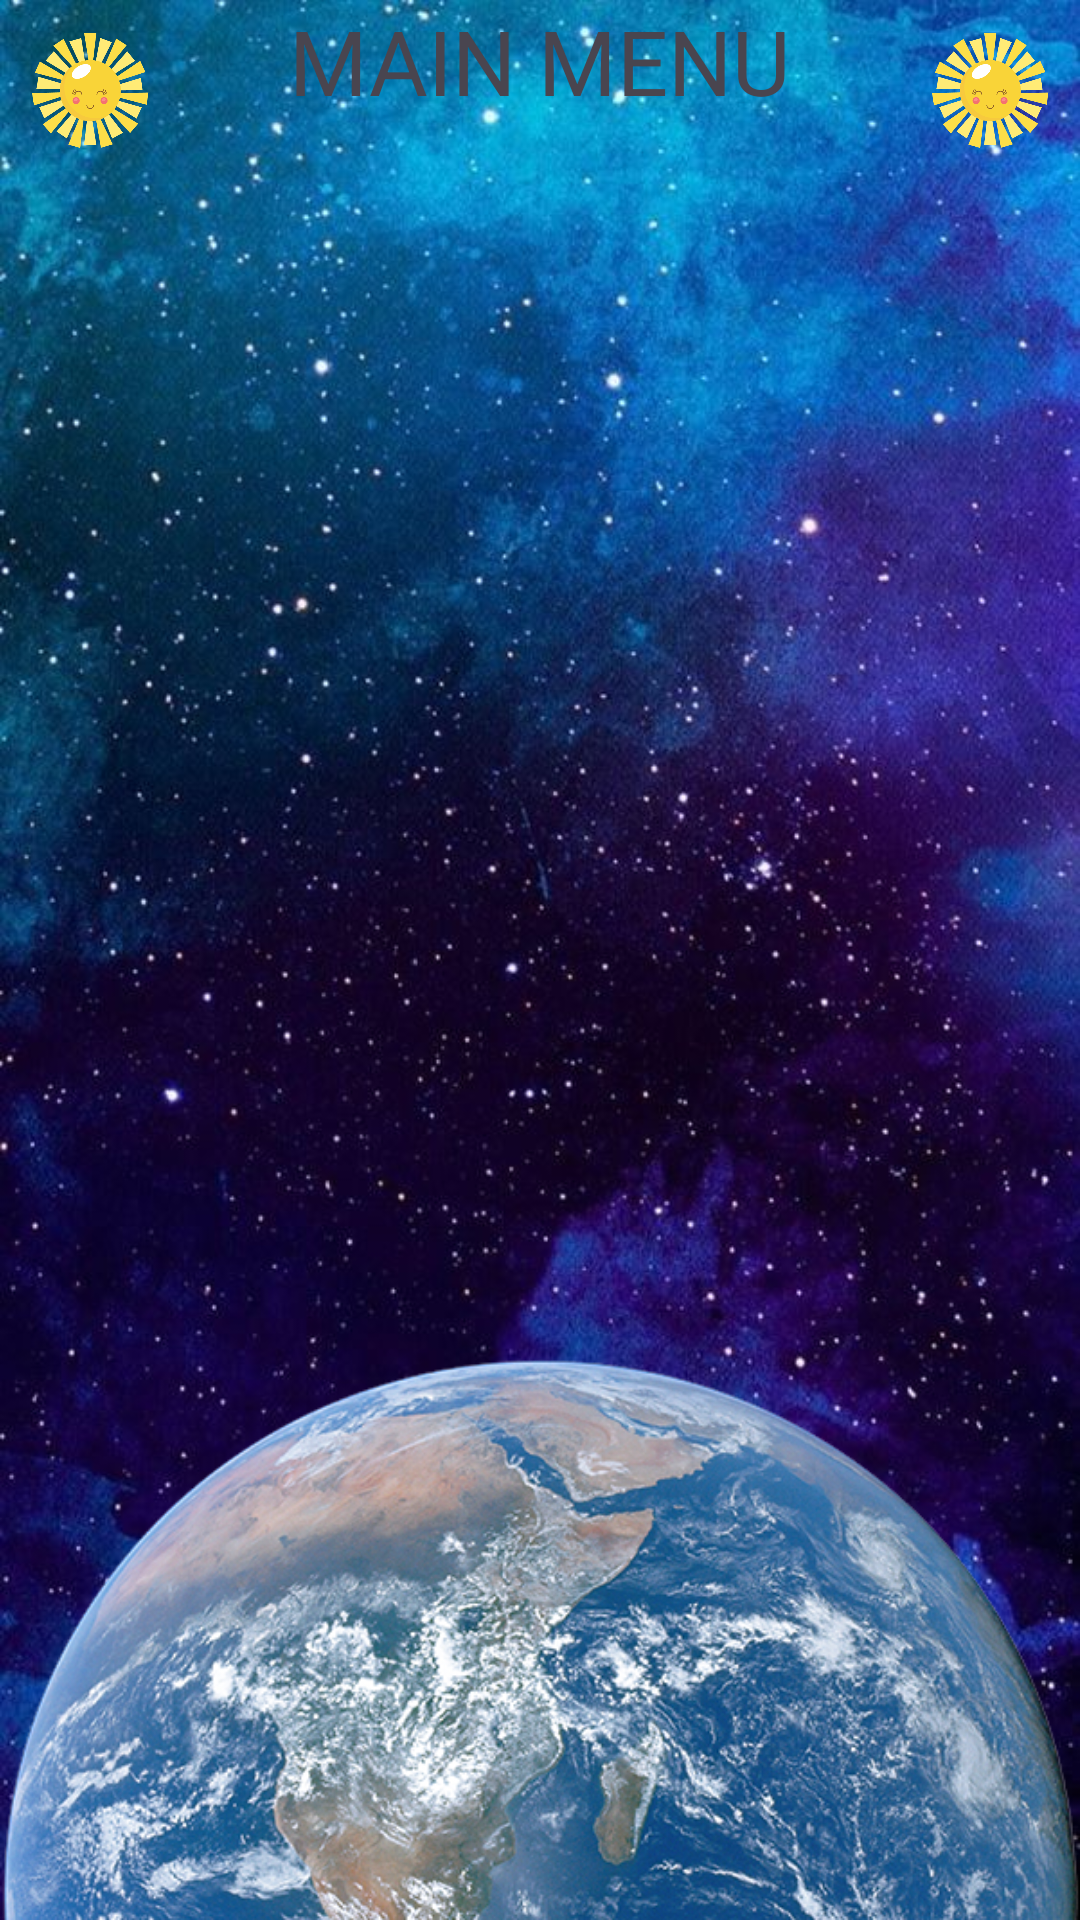

Named icons in this screenshot (1080px x 1920px) and their centers, (x,y):
sol: (90,90), (990,90)
